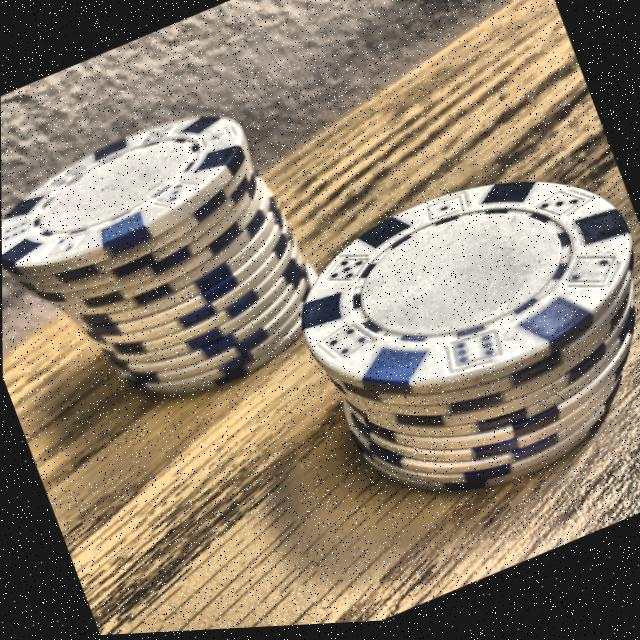Chip: (211, 109, 640, 567), (0, 48, 412, 484)
